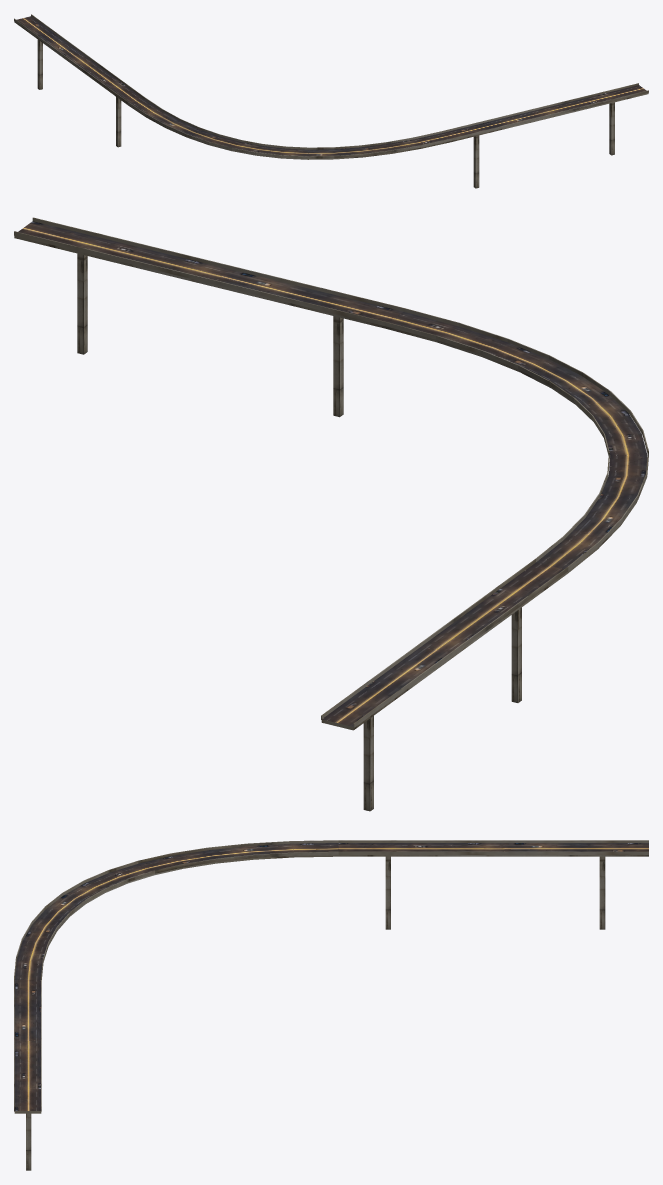
The model's file is CP_Background_Road_Angle_01.fbx.
3 views of the same model, one above another, from view 1: azimuth 30°, elevation 25°; view 2: azimuth 150°, elevation 25°; view 3: azimuth 270°, elevation 25° (orthographic). The views are drawn at different scales.
Visible parts, largest first — view 1: CP_Background_Road_Angle_01; view 2: CP_Background_Road_Angle_01; view 3: CP_Background_Road_Angle_01.
Boxes of the visible parts, x1,y1,x2,y2 form: CP_Background_Road_Angle_01: (14, 14, 648, 188); CP_Background_Road_Angle_01: (14, 217, 648, 811); CP_Background_Road_Angle_01: (14, 840, 648, 1170).
Bounding box in the file's own units: 40942 × 5834 × 40942.
